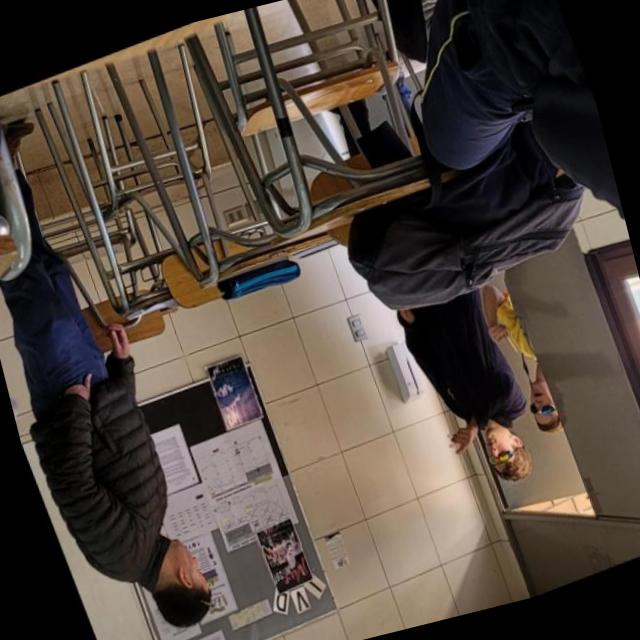person: (0, 81, 255, 640), (382, 263, 556, 518), (469, 262, 576, 453)
